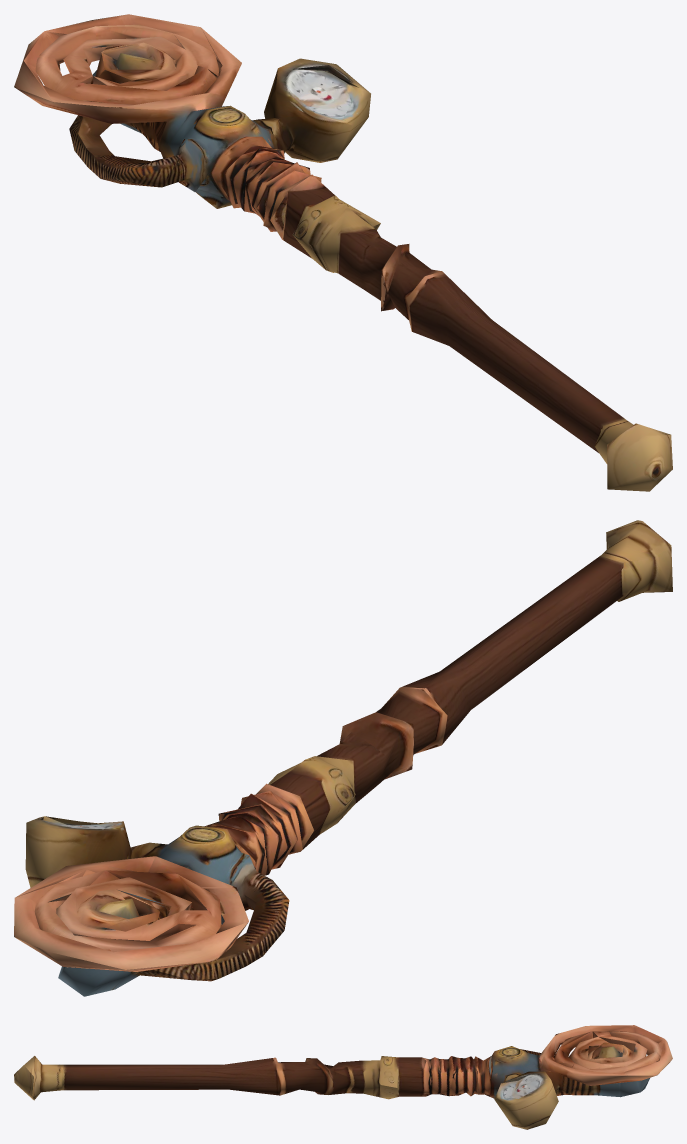
The model's file is novice.fbx.
3 renders of one model, top to bottom at view 1: azimuth 30°, elevation 25°; view 2: azimuth 150°, elevation 25°; view 3: azimuth 270°, elevation 25°, orthographic. The views are drawn at different scales.
Parts seen in each view (by area): view 1: node_0_Default; view 2: node_0_Default; view 3: node_0_Default.
Boxes of the visible parts, left/top/right/bottom form: node_0_Default: left=14, top=14, right=672, bottom=491; node_0_Default: left=14, top=520, right=672, bottom=996; node_0_Default: left=14, top=1025, right=672, bottom=1129.
Bounding box in the file's own units: 31.6 × 10.23 × 119.
